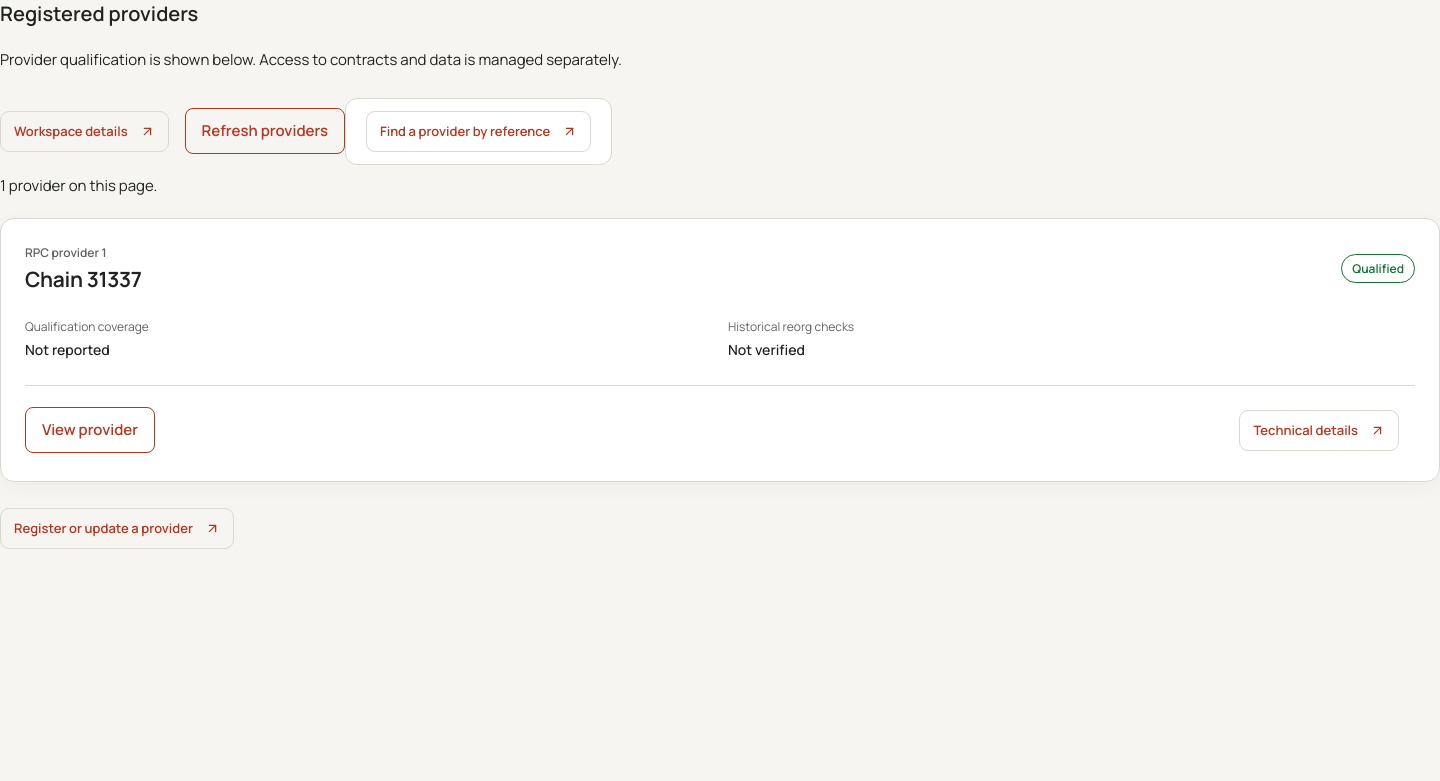
Scenario: refreshes the native provider directory only for a foreign-context effect in the current workspace
Expected: the heading "Chain 31337" is shown, left=25, top=266, right=142, bottom=294
Step 1. Click the button "Register or update a provider" → (117, 528), box left=0, top=508, right=234, bottom=549
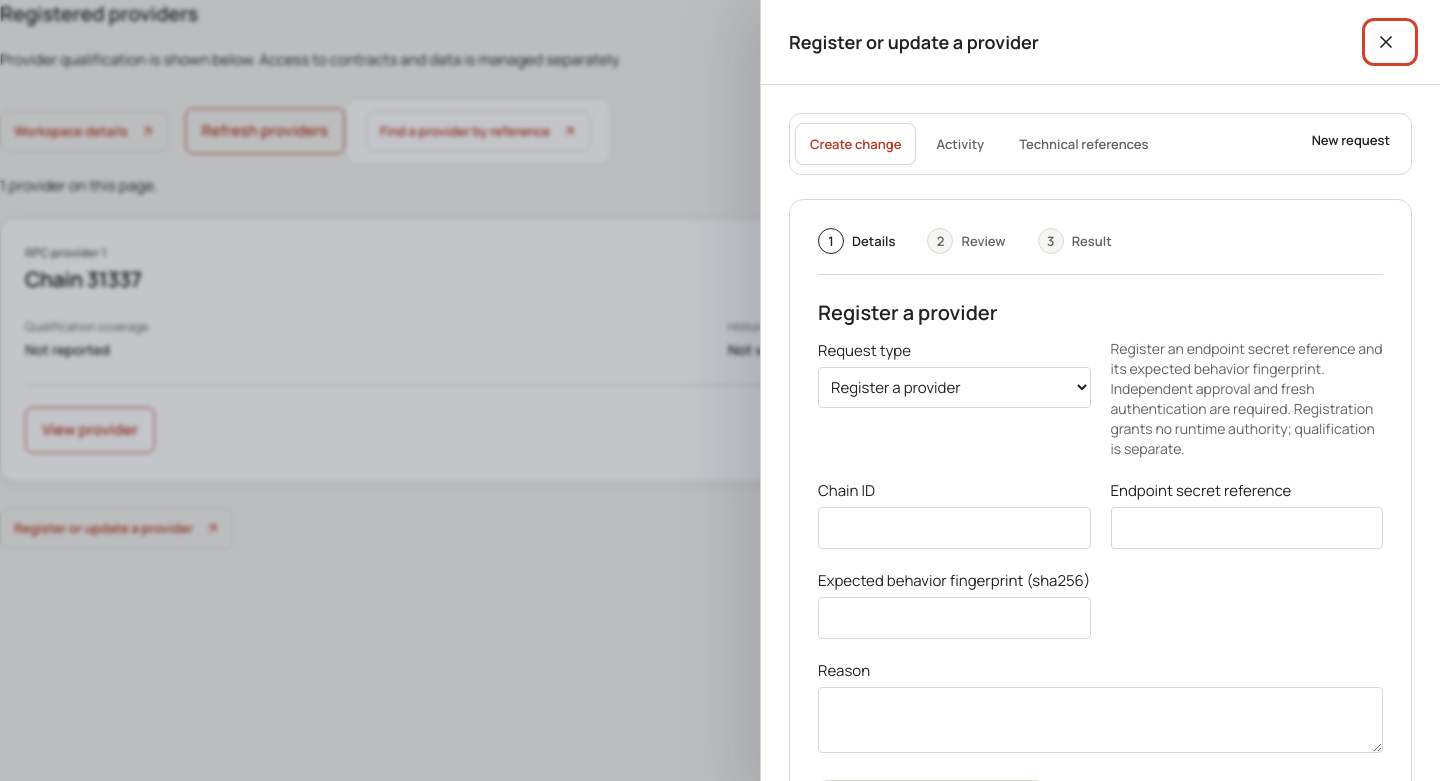
Step 2. Click the button "Activity" → (960, 144), box left=921, top=123, right=999, bottom=165
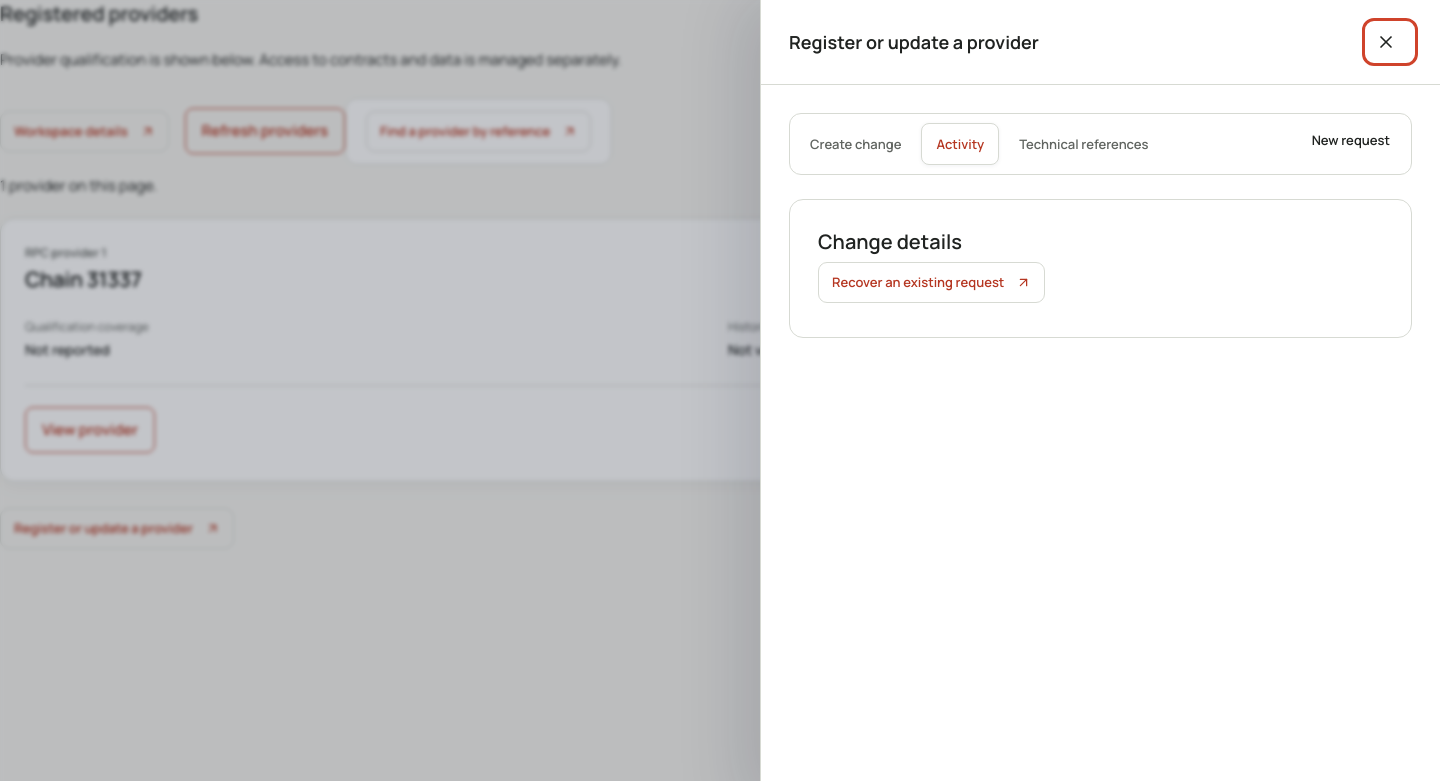
Step 3. Click the button "Recover an existing request" → (932, 282), box left=818, top=262, right=1045, bottom=303
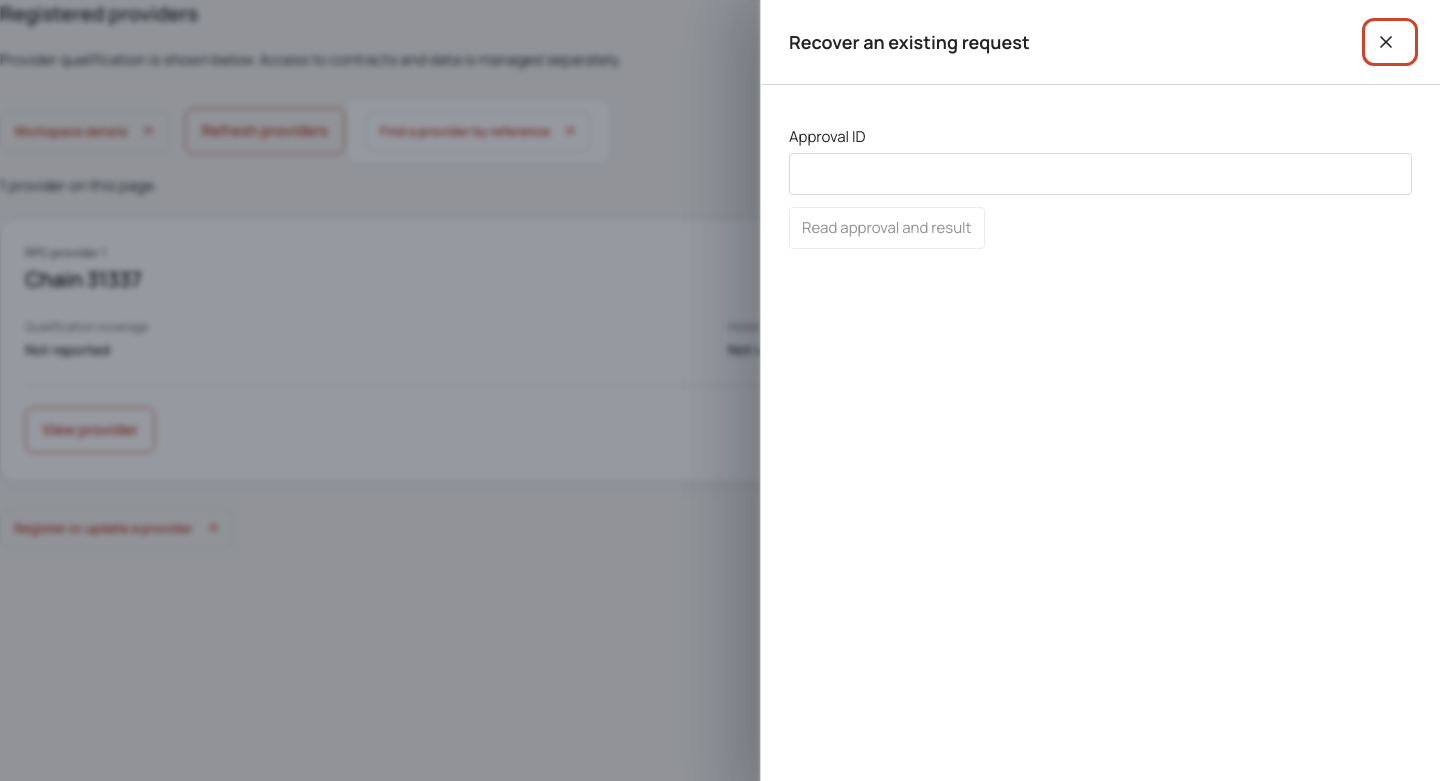
Step 4. Type "018f0000-0000-7000-8000-000000000301" into the field labelled "Approval ID" → (1100, 174), box left=789, top=153, right=1412, bottom=195
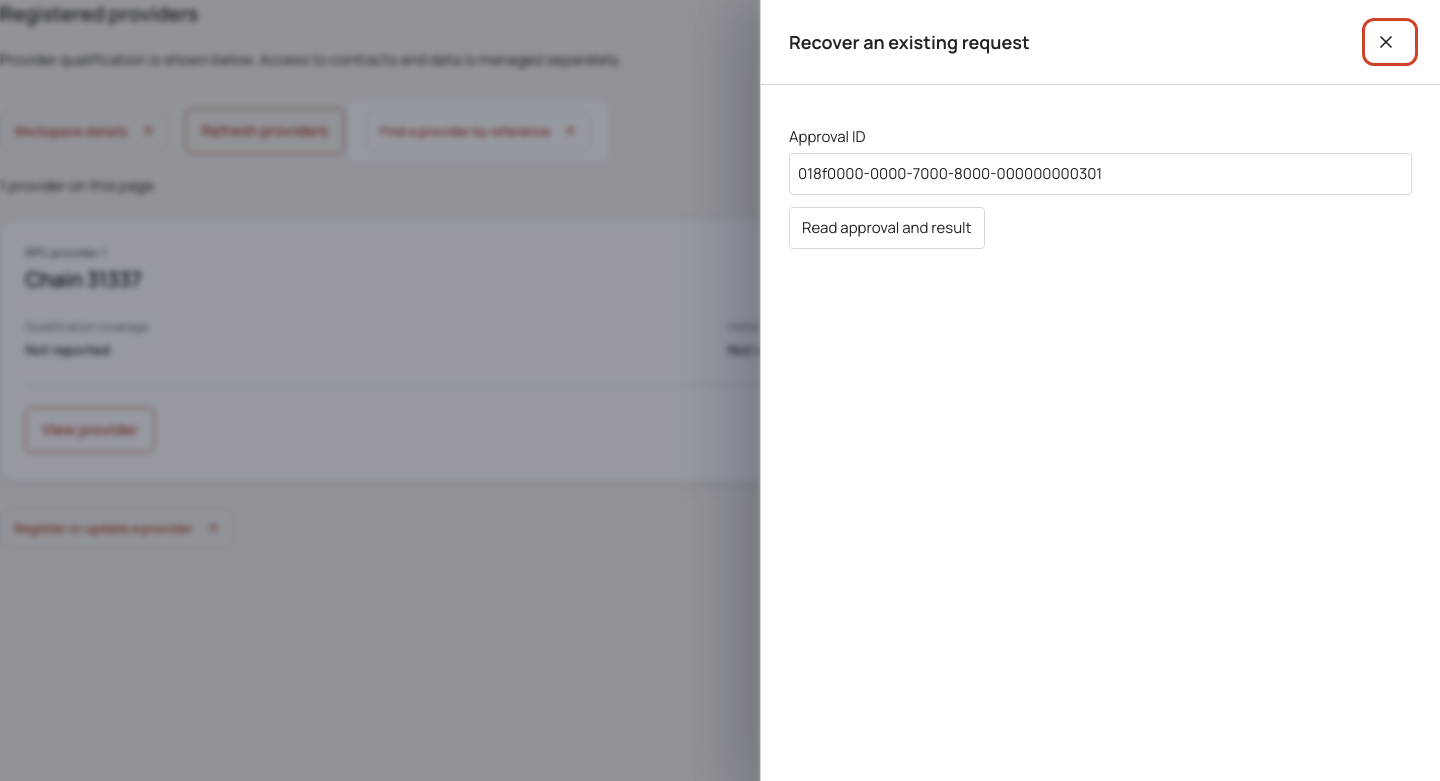
Step 5. Click the button "Read approval and result" → (887, 228), box left=789, top=207, right=985, bottom=249
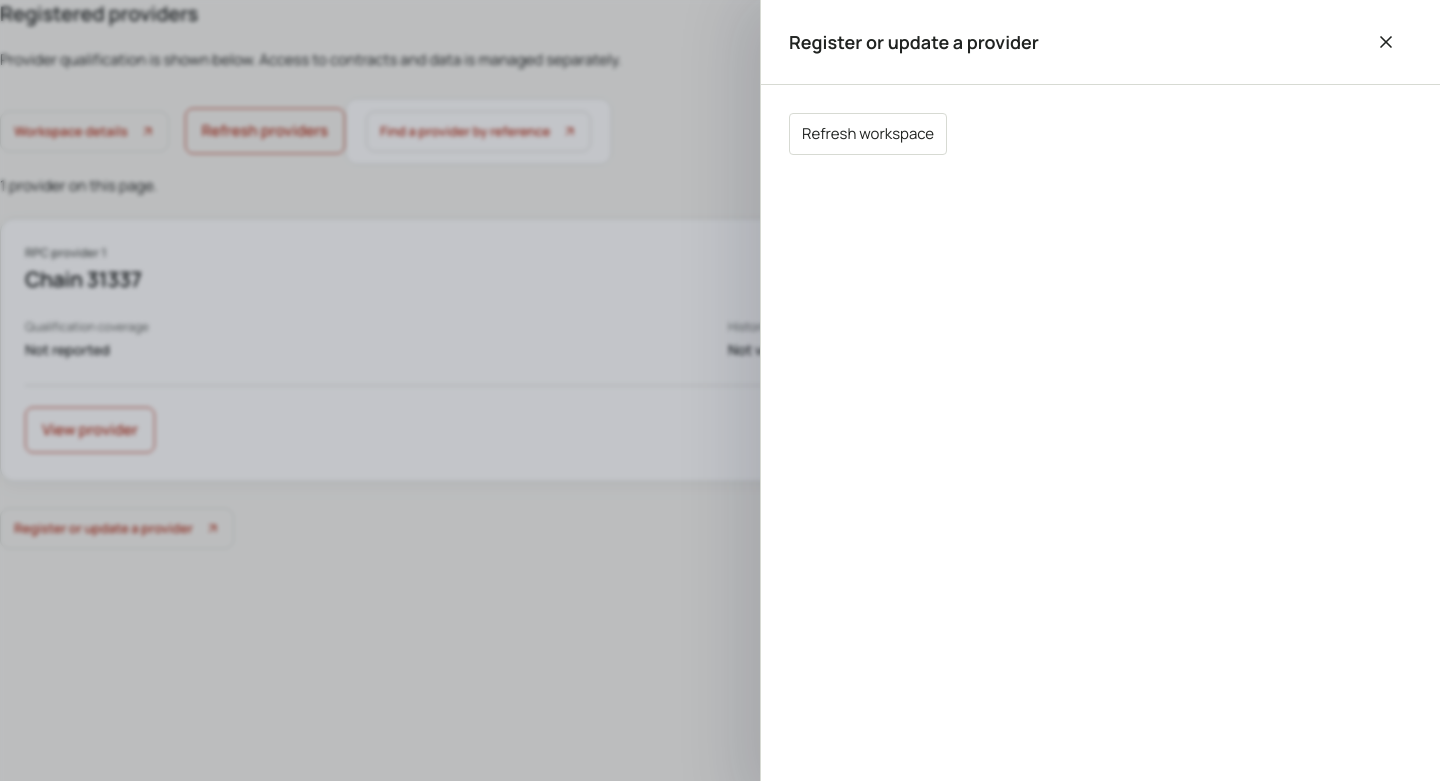
Result: the button "Refresh workspace" is shown at left=789, top=113, right=947, bottom=155
